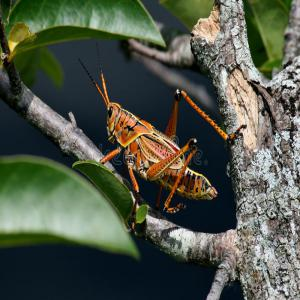locust: (97, 85, 231, 210)
